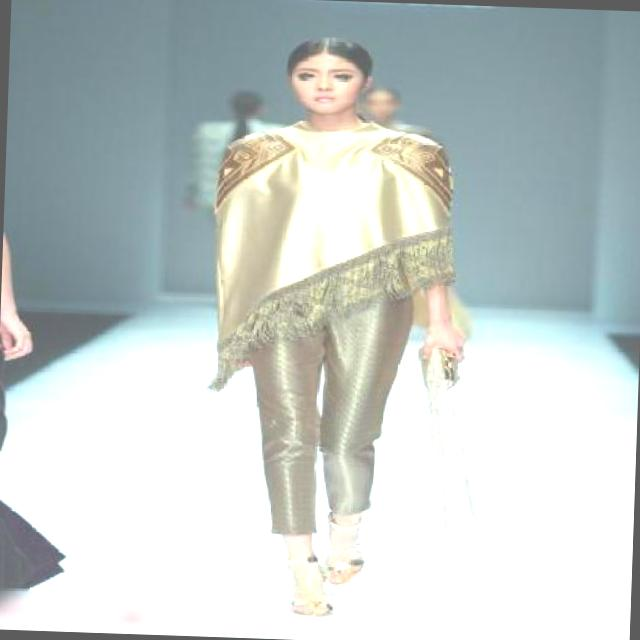Person: (208, 26, 484, 618)
